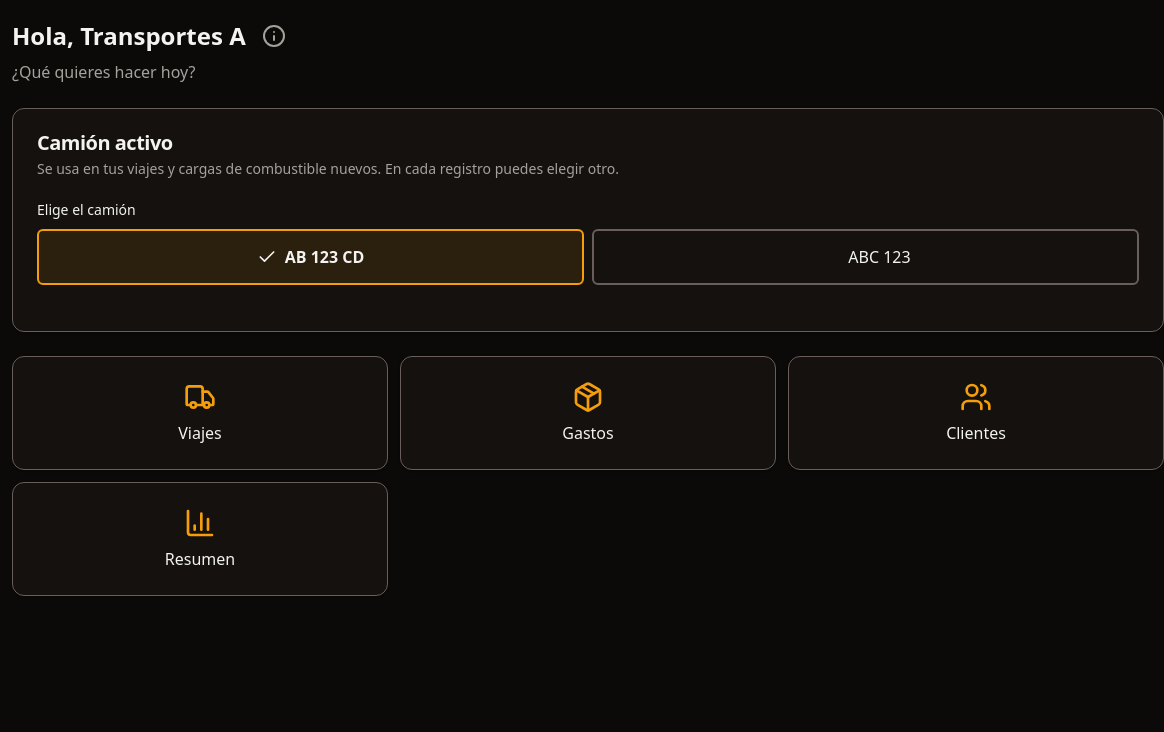
Test: tarjeta del camión activo: elegir › sin red: el error con "Reintentar", que vuelve a mandar el MISMO camión
Click the radio button labelled "ABC 123": point(866, 257) x1=592 y1=229 x2=1139 y2=285
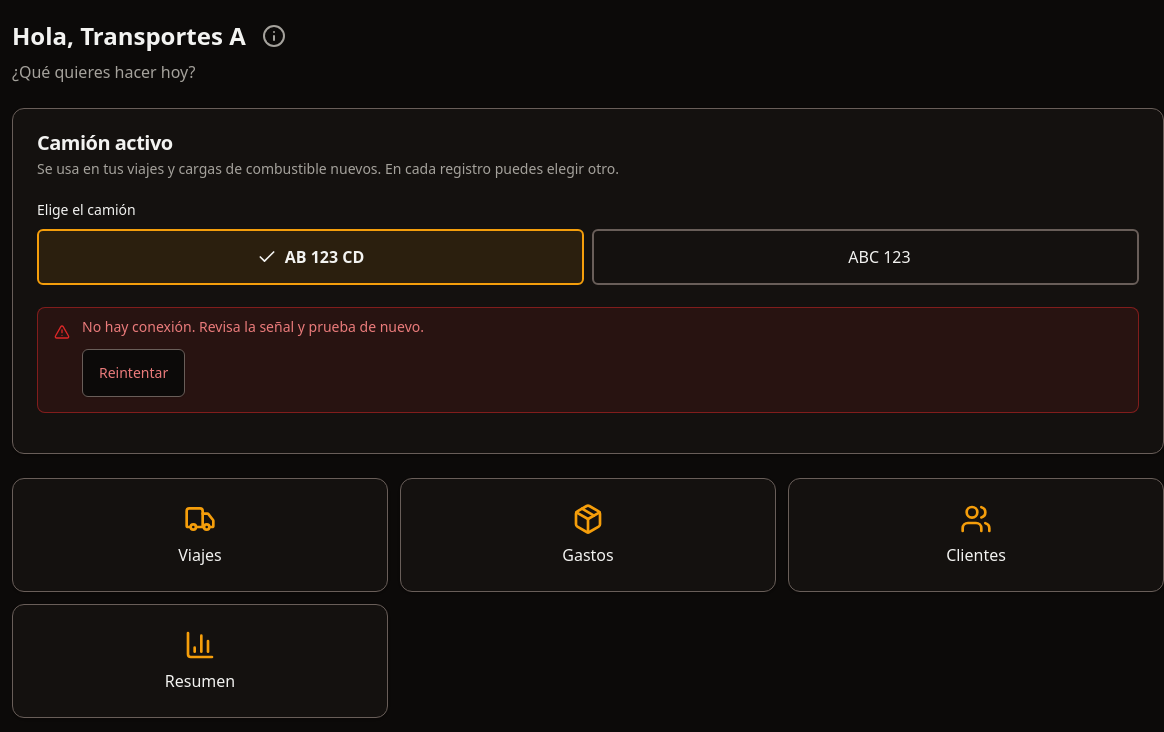
Expected: the text "AB 123 CD" is shown, x1=285 y1=247 x2=364 y2=267
Now the message "No hay conexión. Revisa la señal y prueba de nuevo. Reintentar" is shown, box x1=37 y1=307 x2=1139 y2=413
Click the button "Reintentar": point(134, 373) x1=82 y1=349 x2=185 y2=397
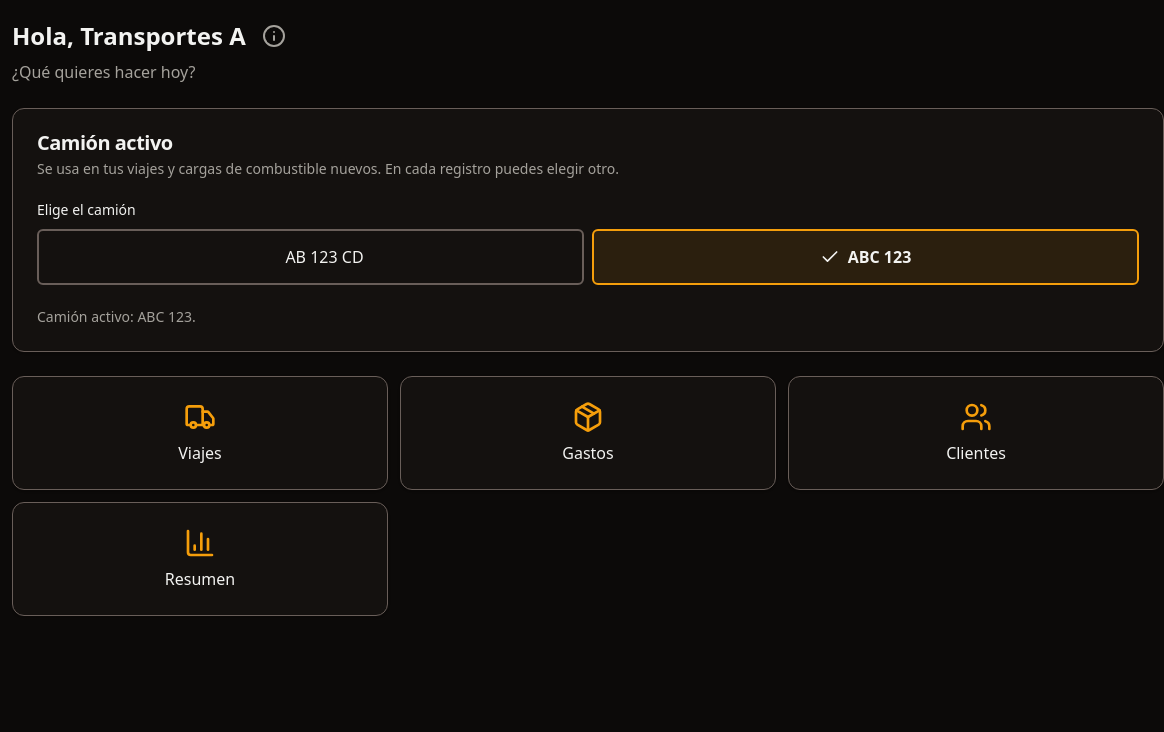
Expected: the text "ABC 123" is shown, x1=848 y1=247 x2=911 y2=267
Now the message "No hay conexión. Revisa la señal y prueba de nuevo. Reintentar" is gone
